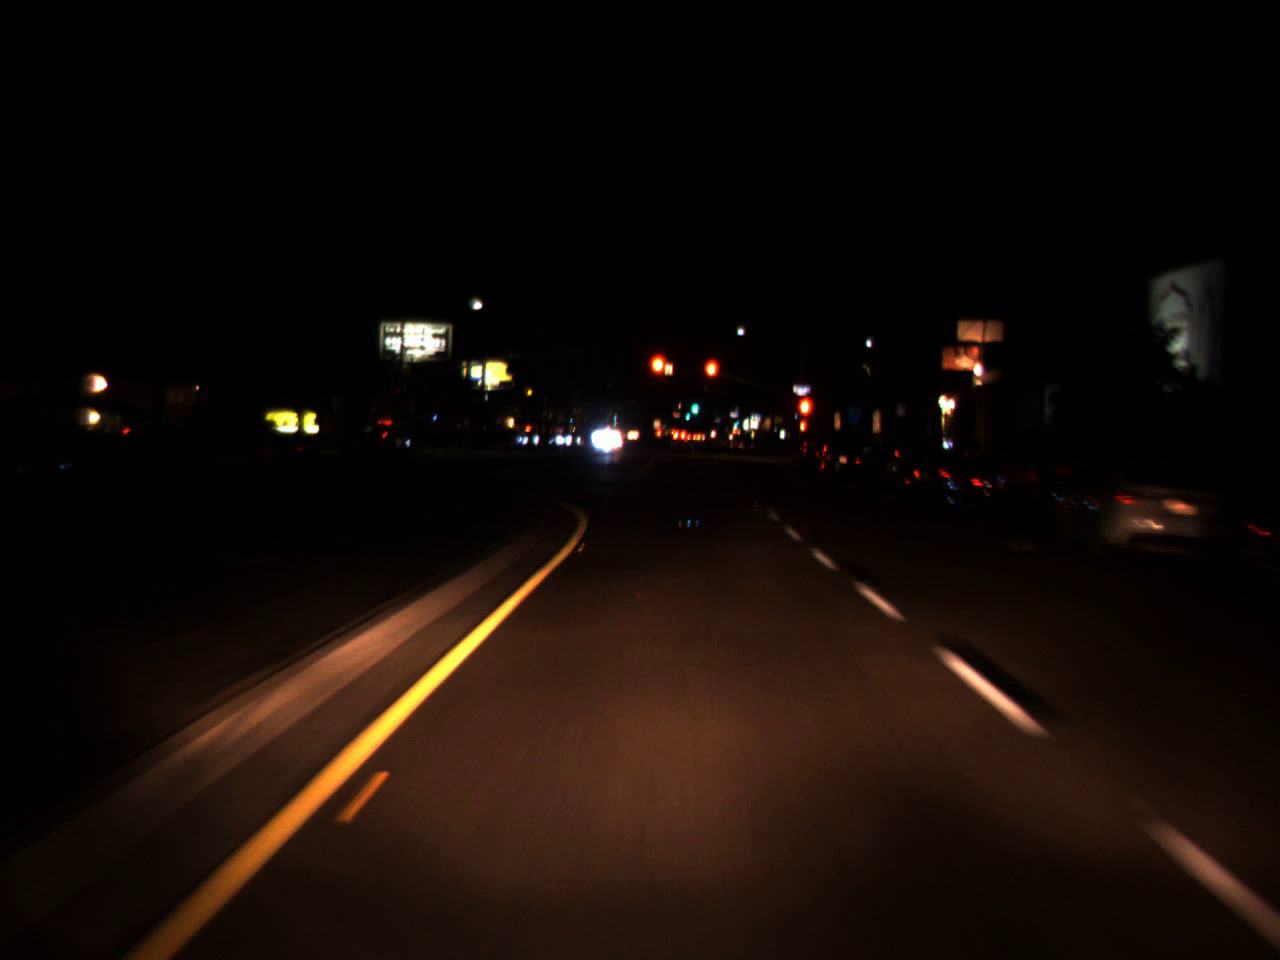go: (689, 389, 699, 419), (684, 408, 691, 419)
stop: (646, 350, 671, 401), (795, 393, 814, 441), (701, 356, 720, 399)
